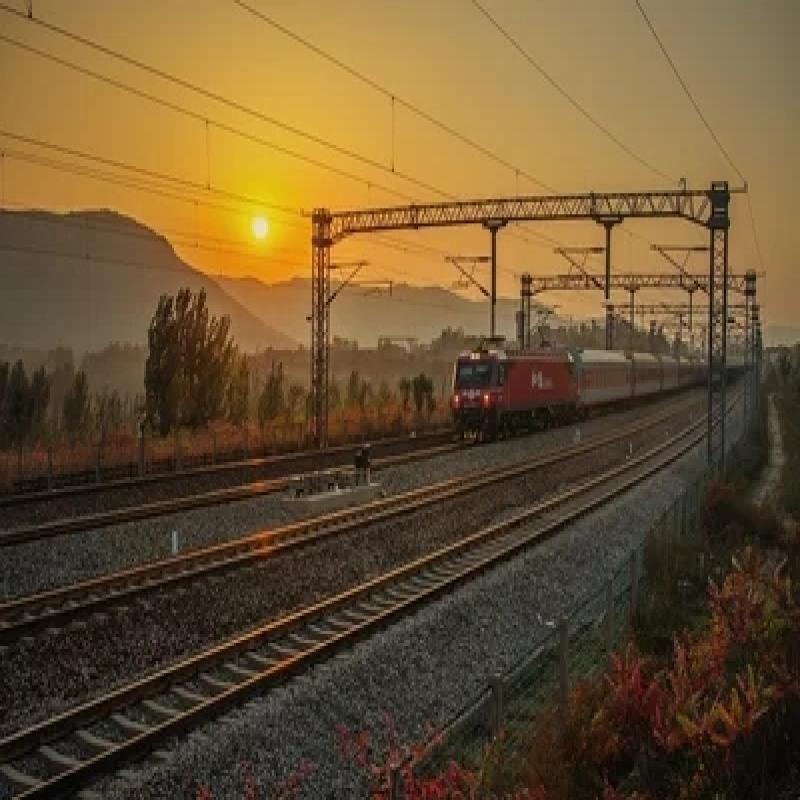train: (441, 324, 587, 448)
